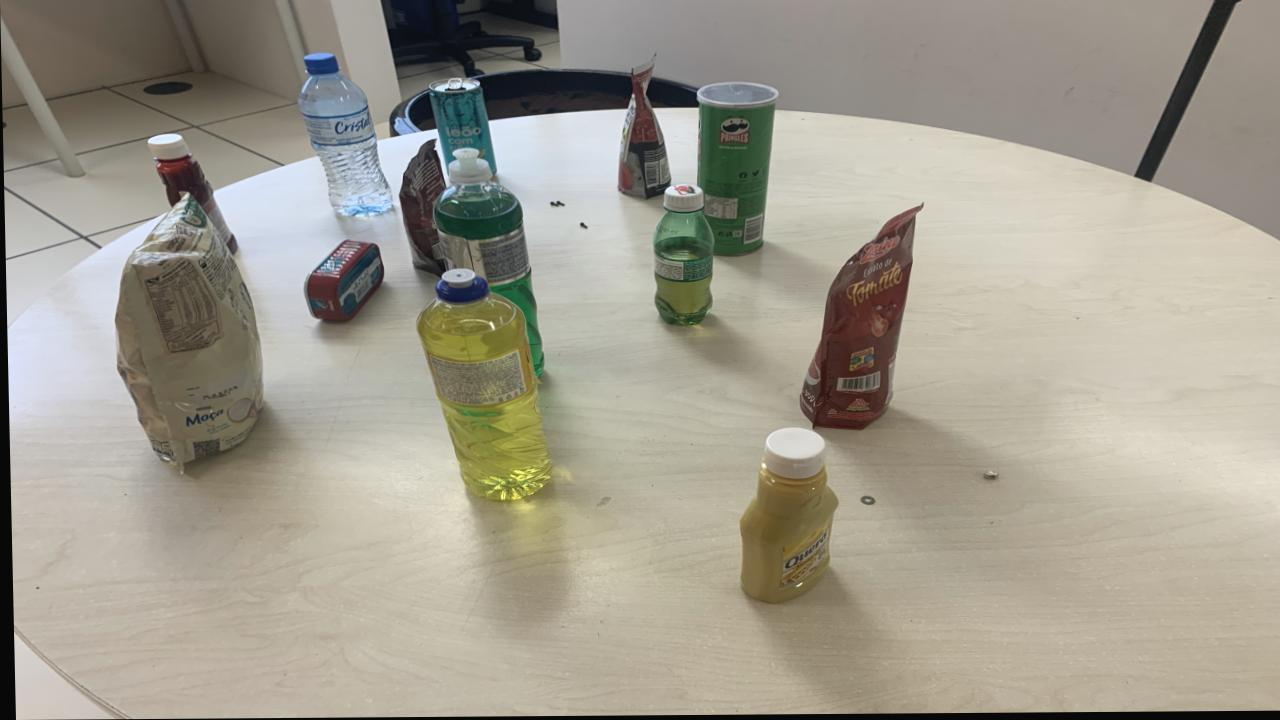Coffee-Pantry_Items: (398, 140, 446, 275)
Detergent-Cleanup_Items: (416, 269, 548, 502), (434, 149, 542, 376)
Flakes-Snacks: (113, 196, 262, 472)
Guarana-Drinks: (652, 185, 712, 326)
Ketchup-Pantry_Items: (147, 134, 237, 254)
Mustard-Pantry_Items: (737, 429, 836, 605)
Pringles-Snacks: (696, 84, 779, 256)
Tea-Drinks: (429, 80, 496, 173)
Tomato_Sauce-Pantry_Items: (797, 207, 921, 430), (618, 60, 671, 201)
Tuna_Can-Pantry_Items: (303, 240, 382, 321)
Water_Bottle-Drinks: (297, 52, 391, 217)
